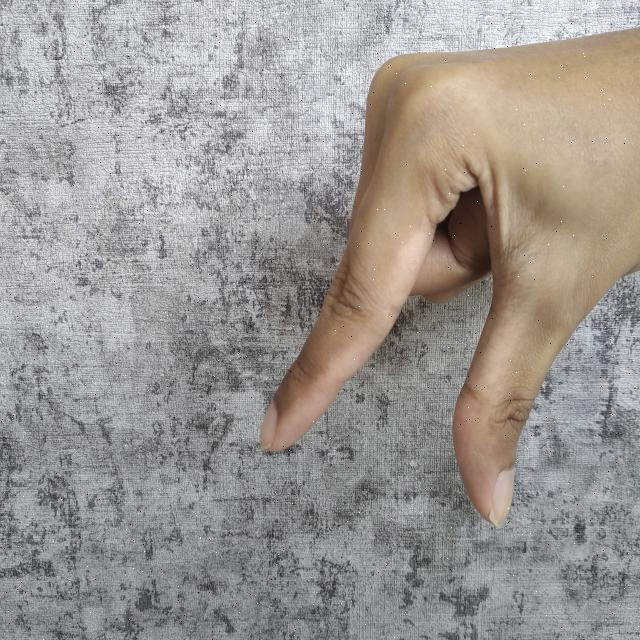Q: (251, 14, 640, 536)
